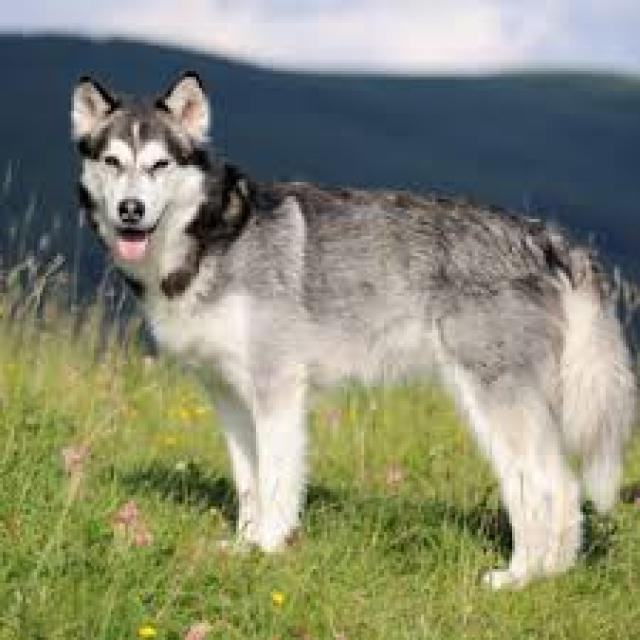ALASKAN_MALAMUTE: (27, 45, 640, 610)
